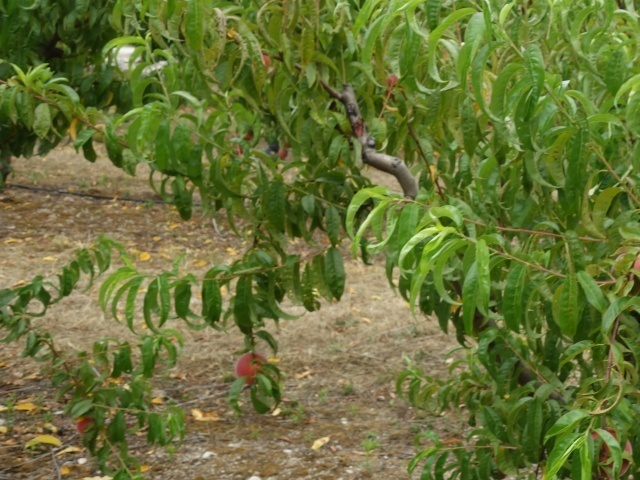peach: (588, 425, 639, 479), (233, 351, 268, 387), (73, 412, 99, 440)
